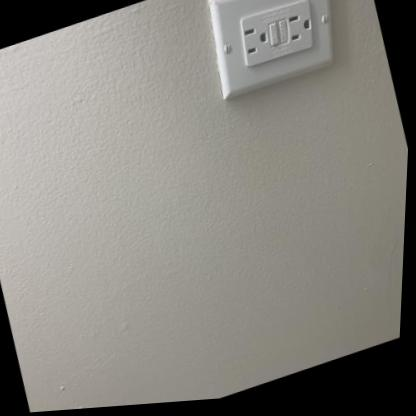OUTLET: (197, 0, 342, 100)
